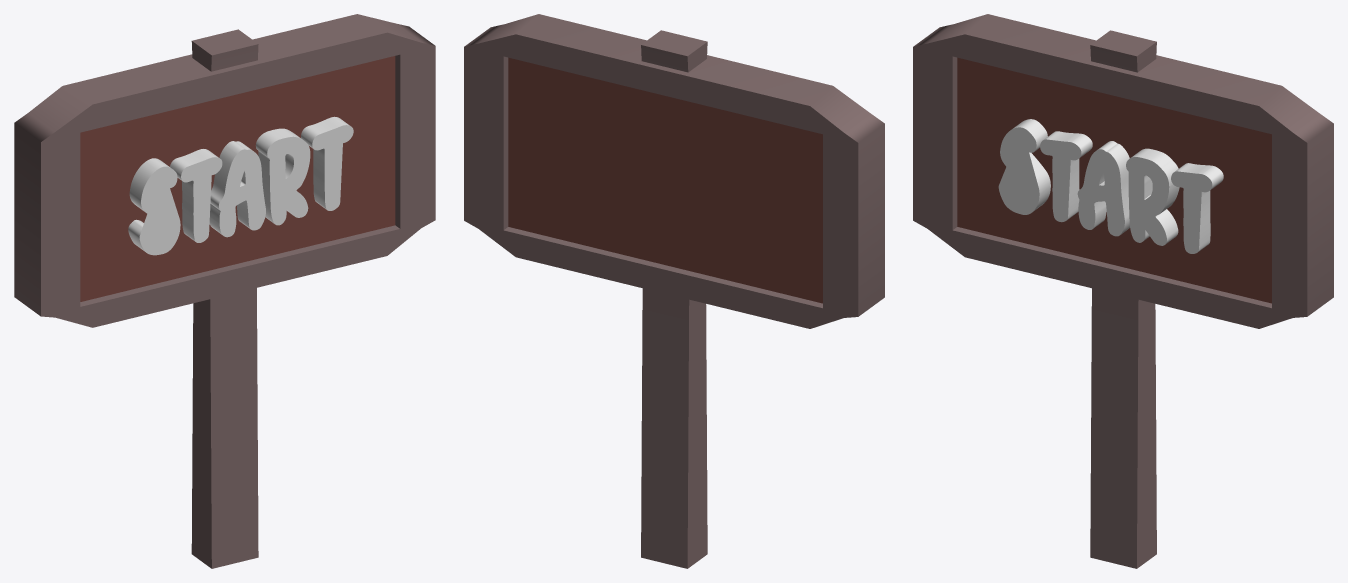
The model's file is sign.fbx.
The picture shows the model from 3 angles, left to right: view 1: azimuth 30°, elevation 25°; view 2: azimuth 150°, elevation 25°; view 3: azimuth 330°, elevation 25°; orthographic projection.
Visible parts, largest first — view 1: sign2, sign1, start1; view 2: sign2, sign1; view 3: sign2, sign1, start1.
Boxes of the visible parts, x1,y1,x2,y2 form: sign2: (14, 14, 435, 327); sign1: (191, 29, 258, 568); start1: (128, 116, 353, 255); sign2: (464, 14, 884, 328); sign1: (641, 30, 707, 568); sign2: (913, 14, 1333, 328); sign1: (1090, 30, 1156, 568); start1: (998, 119, 1223, 253).
Bounding box in the file's own units: 4.78 × 5.94 × 0.6949.
